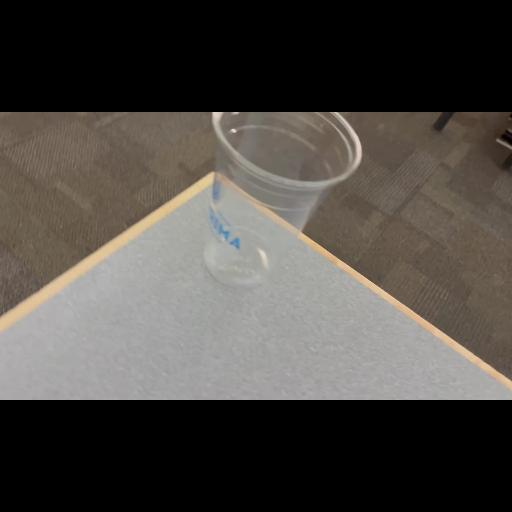lp_plastic_cup: (197, 112, 367, 302)
